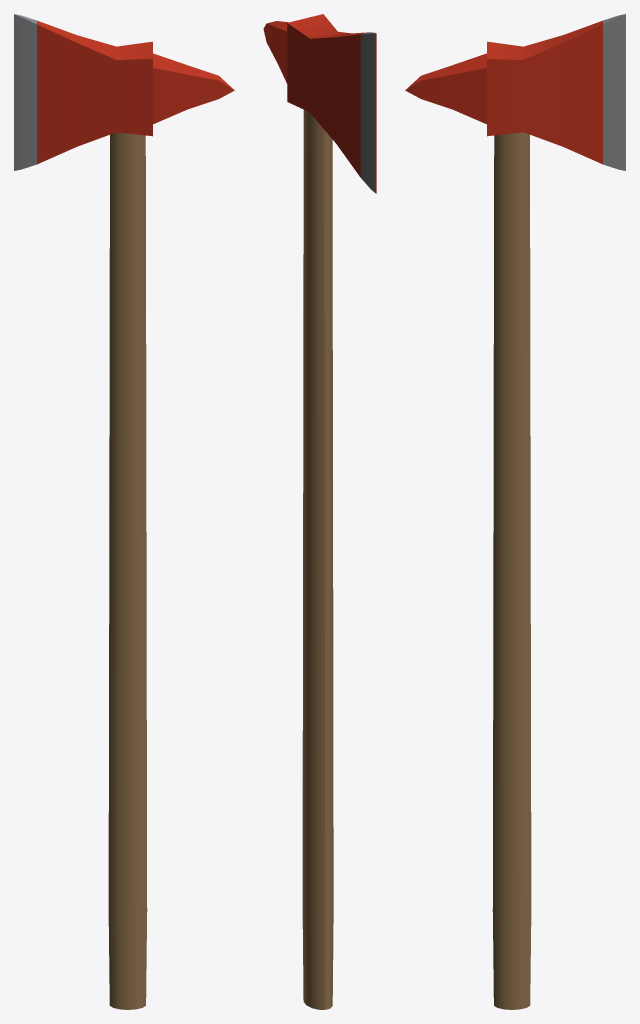
The model's file is wpn_melee_fire_axe.glb.
3 views of the same model, side by side, from view 1: azimuth 90°, elevation 25°; view 2: azimuth 210°, elevation 25°; view 3: azimuth 270°, elevation 25° (orthographic). The views are drawn at different scales.
Visible parts, largest first — view 1: Handle, Head; view 2: Handle, Head; view 3: Handle, Head.
Boxes of the visible parts, bbox=[...] form: Handle: bbox=[108, 132, 147, 1009]; Head: bbox=[14, 14, 234, 170]; Handle: bbox=[302, 110, 333, 1009]; Head: bbox=[263, 14, 376, 193]; Handle: bbox=[492, 132, 531, 1009]; Head: bbox=[405, 14, 625, 170].
Bounding box in the file's own units: 0.036 × 0.96 × 0.194.
